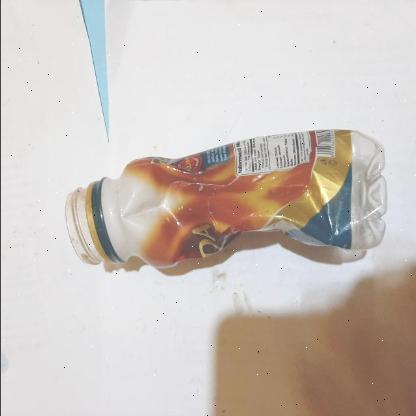Plastic Bottle: (65, 128, 386, 272)
